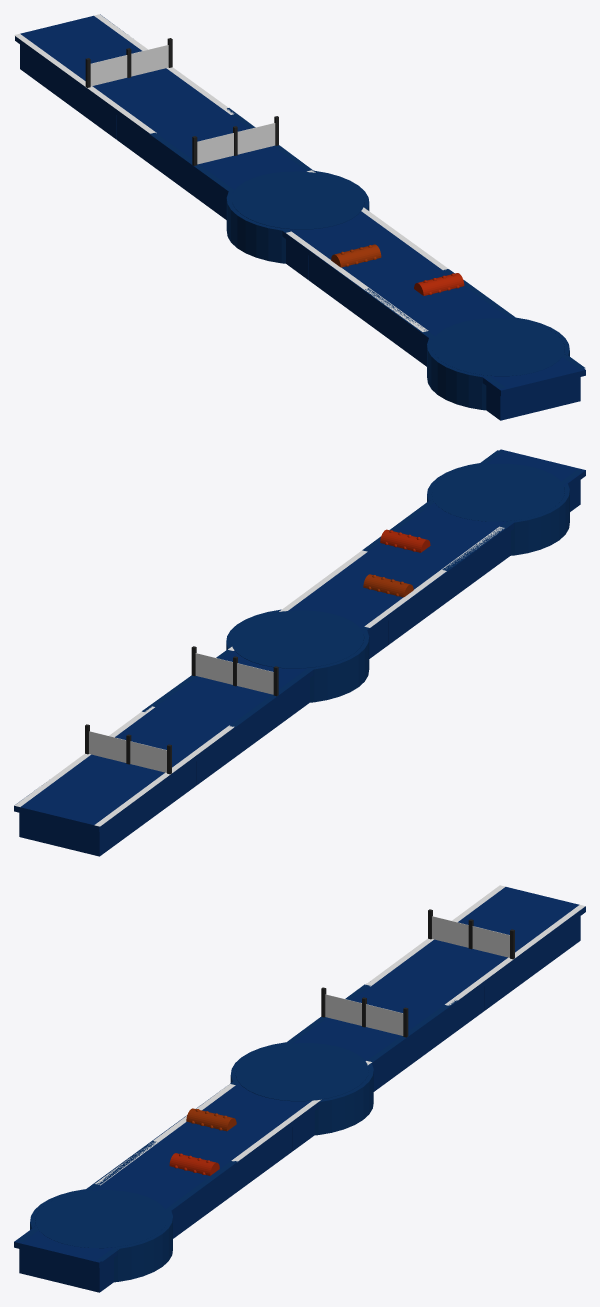
The model's file is Last running track3.fbx.
The picture shows the model from 3 angles, top to bottom: view 1: azimuth 30°, elevation 25°; view 2: azimuth 150°, elevation 25°; view 3: azimuth 330°, elevation 25°; orthographic projection.
Parts seen in each view (by area): view 1: Cube.004, Cube.003, Cube.001, Cube.008, Cylinder.005, Cylinder.004, Cube.002, Cylinder.006, Cylinder.001, Cube.014, Cube.005, Cube.009 (+8 smaller); view 2: Cube.003, Cube.001, Cube.004, Cylinder.005, Cylinder.004, Cube.008, Cube.002, Cylinder.006, Cylinder.001, Cube.014, Cube.005, Cube.011 (+9 smaller); view 3: Cube.004, Cube.003, Cube.001, Cube.008, Cylinder.005, Cylinder.004, Cube.002, Cylinder.006, Cylinder.001, Cube.005, Cube.014, Cube.009 (+9 smaller).
Part boxes in pixels (x1,y1,x2,y2): Cube.004: (303,226,478,349); Cube.003: (15,14,190,139); Cube.001: (111,86,285,209); Cube.008: (400,297,585,420); Cylinder.005: (231,171,364,229); Cylinder.004: (432,318,564,376); Cube.002: (207,156,381,279); Cylinder.006: (226,170,369,263); Cylinder.001: (427,317,569,410); Cube.014: (237,123,275,154); Cube.005: (131,45,168,76); Cube.009: (90,55,127,86); Cube.003: (14,736,200,856); Cube.001: (116,676,297,785); Cube.004: (308,525,487,645); Cylinder.005: (231,610,364,668); Cylinder.004: (431,463,564,521); Cube.008: (404,449,585,574); Cube.002: (222,596,392,715); Cylinder.006: (226,609,369,702); Cylinder.001: (427,462,569,555); Cube.014: (195,653,232,684); Cube.005: (89,731,126,762); Cube.011: (237,663,273,694); Cube.004: (116,1097,297,1221); Cube.003: (410,887,585,1010); Cube.001: (314,957,484,1080); Cube.008: (14,1167,200,1292); Cylinder.005: (235,1043,368,1101); Cylinder.004: (35,1190,168,1248); Cube.002: (214,1027,393,1151); Cylinder.006: (230,1042,373,1135); Cylinder.001: (30,1189,172,1282); Cube.005: (472,926,509,957); Cube.014: (366,1004,403,1035); Cube.009: (432,916,468,947).
Bounding box in the file's own units: 734 × 351 × 5079.
